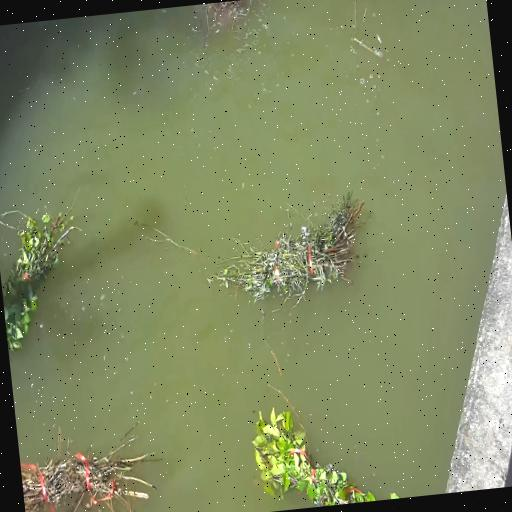twig: (238, 382, 397, 512), (16, 407, 168, 512), (220, 202, 362, 312), (0, 198, 85, 364), (198, 0, 269, 41)
